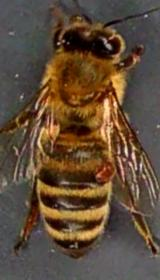varroa_mite: (88, 148, 124, 192)
